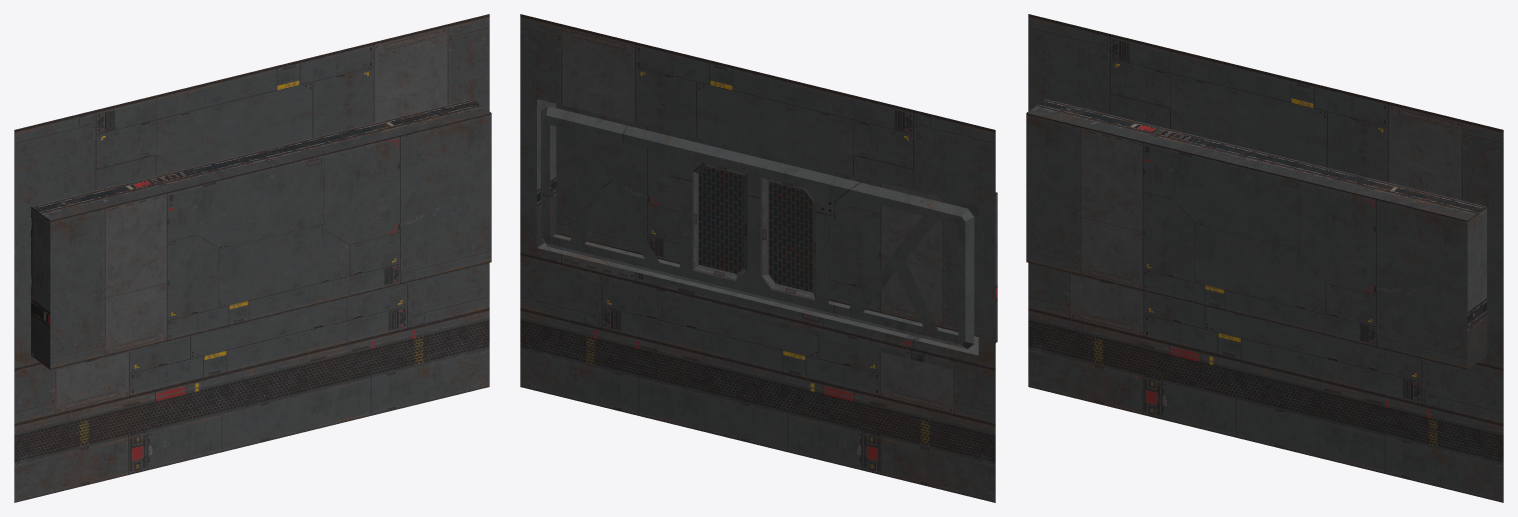
Rendered from ARC0910151.fbx.
3 views of the same model, side by side, from view 1: azimuth 30°, elevation 25°; view 2: azimuth 150°, elevation 25°; view 3: azimuth 330°, elevation 25° (orthographic).
Parts seen in each view (by area): view 1: smARC0910151; view 2: smARC0910151; view 3: smARC0910151.
Boxes of the visible parts, x1,y1,x2,y2 form: smARC0910151: (14, 14, 491, 502); smARC0910151: (520, 14, 997, 502); smARC0910151: (1026, 14, 1503, 502).
Bounding box in the file's own units: 400 × 300 × 33.41.
Materials: 1 (1 with a texture image).
